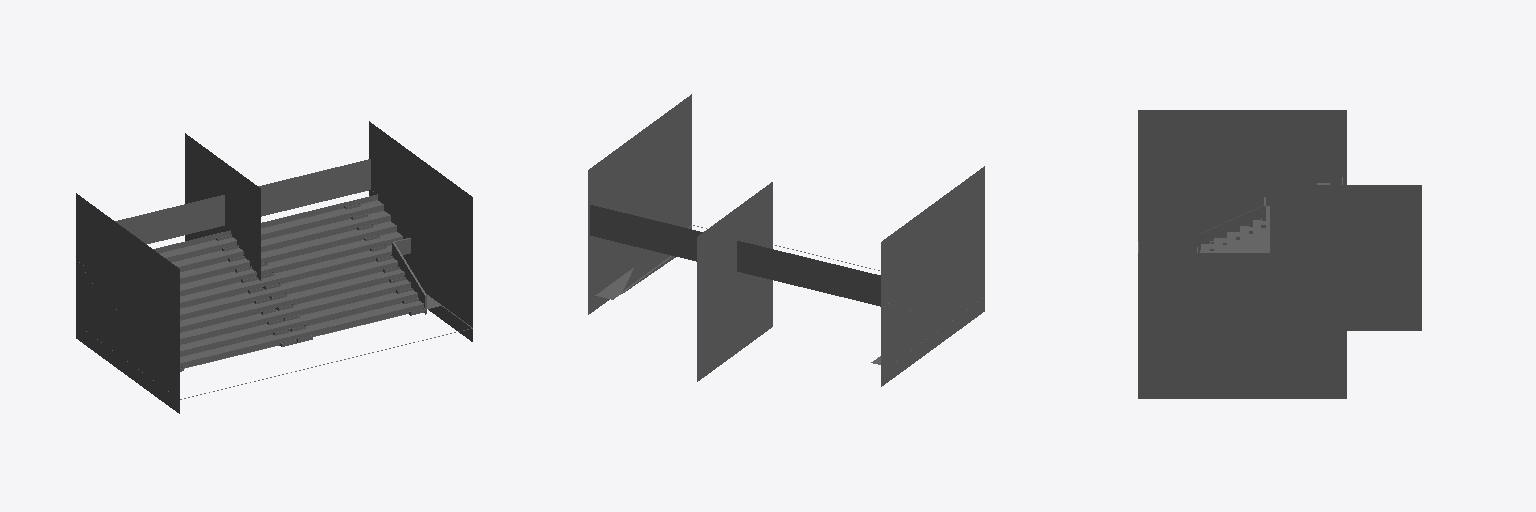
The model's file is concreteParts.obj.
3 views of the same model, side by side, from view 1: azimuth 30°, elevation 25°; view 2: azimuth 150°, elevation 25°; view 3: azimuth 270°, elevation 25° (orthographic).
Visible parts, largest first — view 1: AmphiGradins, SideWalls002, SideWalls, SideWalls001, MursEscalier, AmphiEscalier006, AmphiEscalier001; view 2: SideWalls002, SideWalls, SideWalls001, AmphiGradins, MursEscalier; view 3: SideWalls, SideWalls002, SideWalls003, AmphiGradins, MursEscalier.
Boxes of the visible parts, box(x1,y1,x2,y2) form: AmphiGradins: box(79, 159, 472, 399); SideWalls002: box(76, 193, 179, 413); SideWalls: box(369, 121, 472, 341); SideWalls001: box(185, 133, 260, 280); MursEscalier: box(116, 238, 426, 323); AmphiEscalier006: box(216, 234, 296, 346); AmphiEscalier001: box(344, 202, 424, 315); SideWalls002: box(881, 166, 984, 386); SideWalls: box(588, 94, 691, 314); SideWalls001: box(697, 182, 772, 381); AmphiGradins: box(590, 205, 982, 364); MursEscalier: box(622, 249, 922, 313); SideWalls: box(1138, 253, 1346, 398); SideWalls002: box(1138, 110, 1346, 252); SideWalls003: box(1270, 185, 1421, 330); AmphiGradins: box(1138, 177, 1342, 252); MursEscalier: box(1199, 197, 1265, 354).
Bounding box in the file's own units: 24725 × 11987 × 20643.